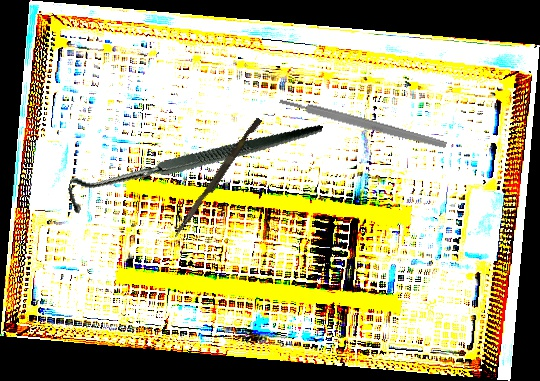Hook Surgical: (63, 70, 323, 266)
Pusher: (172, 115, 263, 241)
Scalpel Handle: (278, 95, 448, 151)
